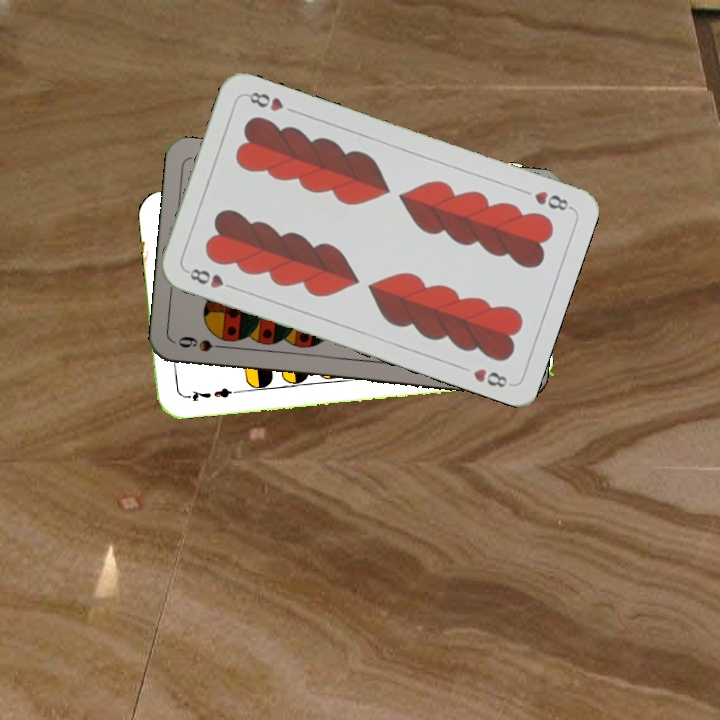E7: (179, 383, 238, 404)
H8: (182, 264, 239, 293), (530, 186, 574, 214)
S9: (174, 332, 233, 354)
